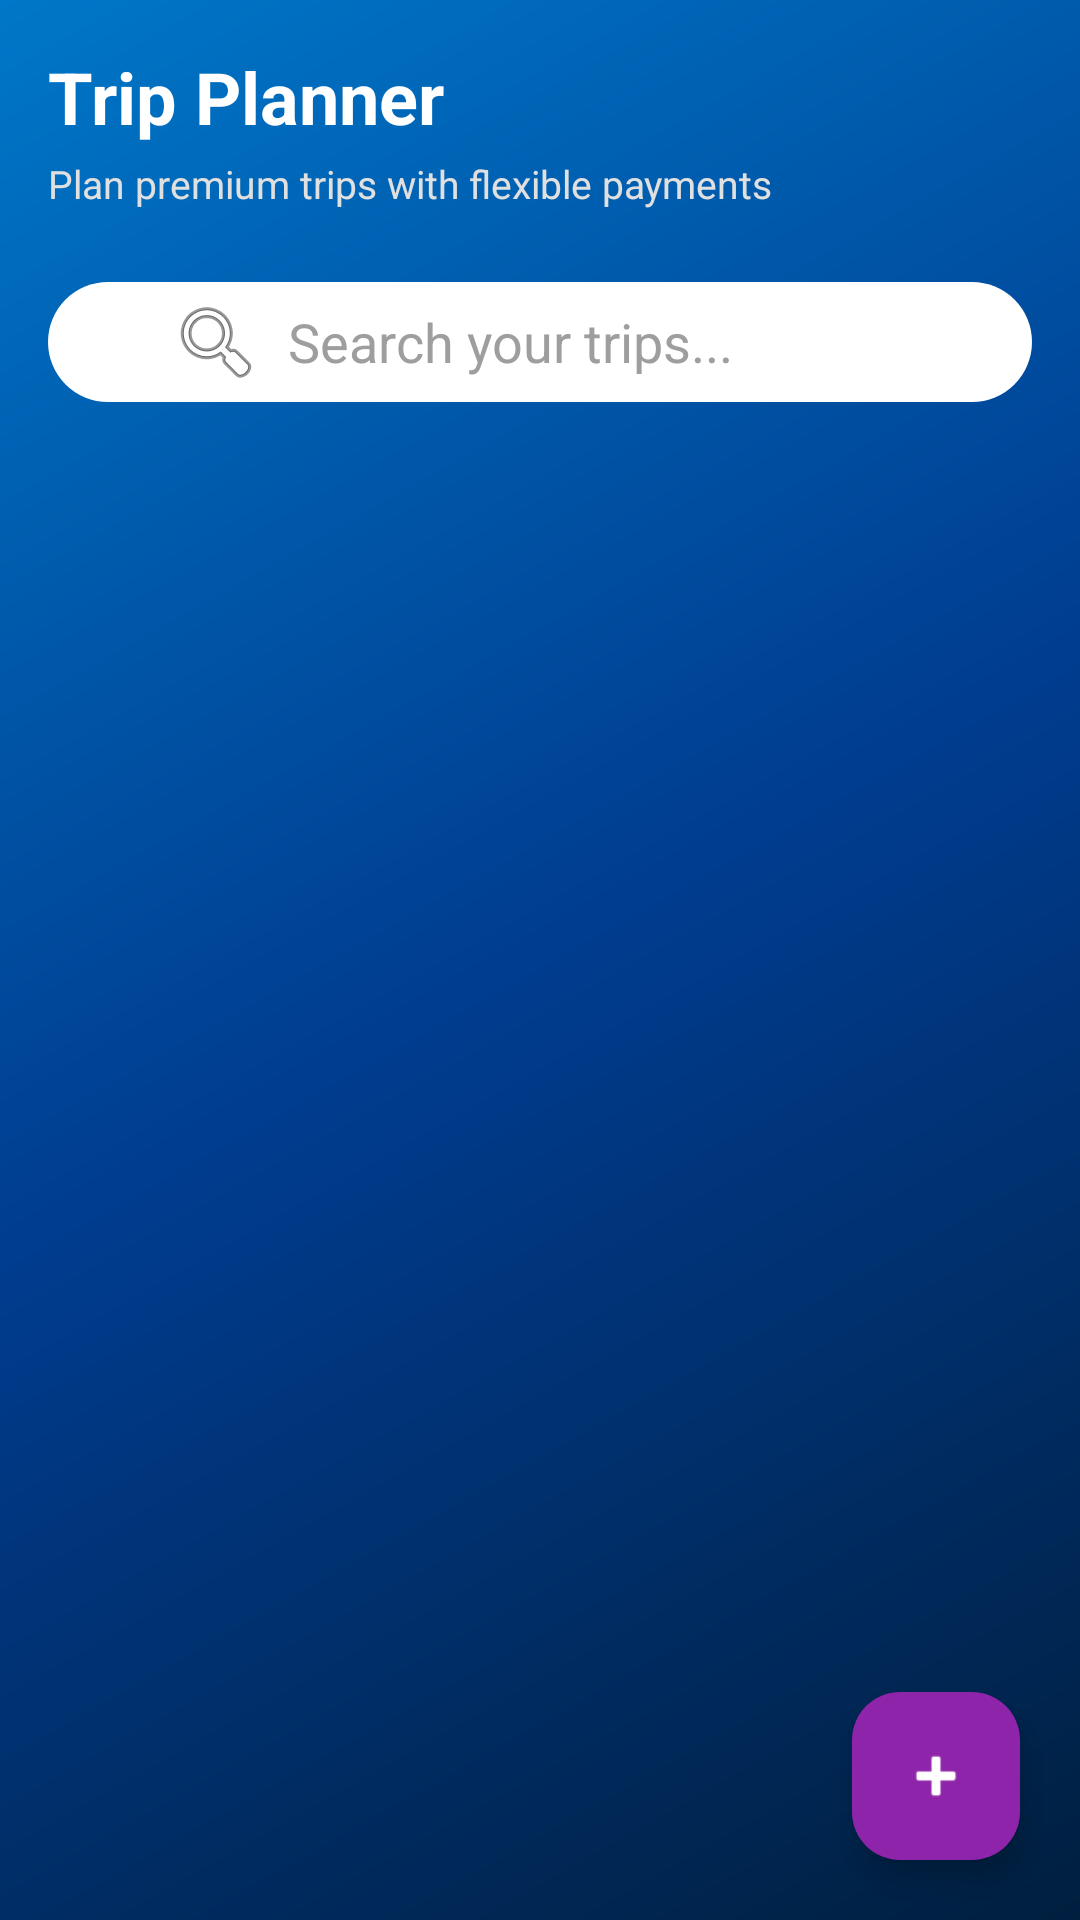

Icons on this 1080 x 1920 Android screen, each with the point to tap as (x,y):
Add new trip: (936,1776)
